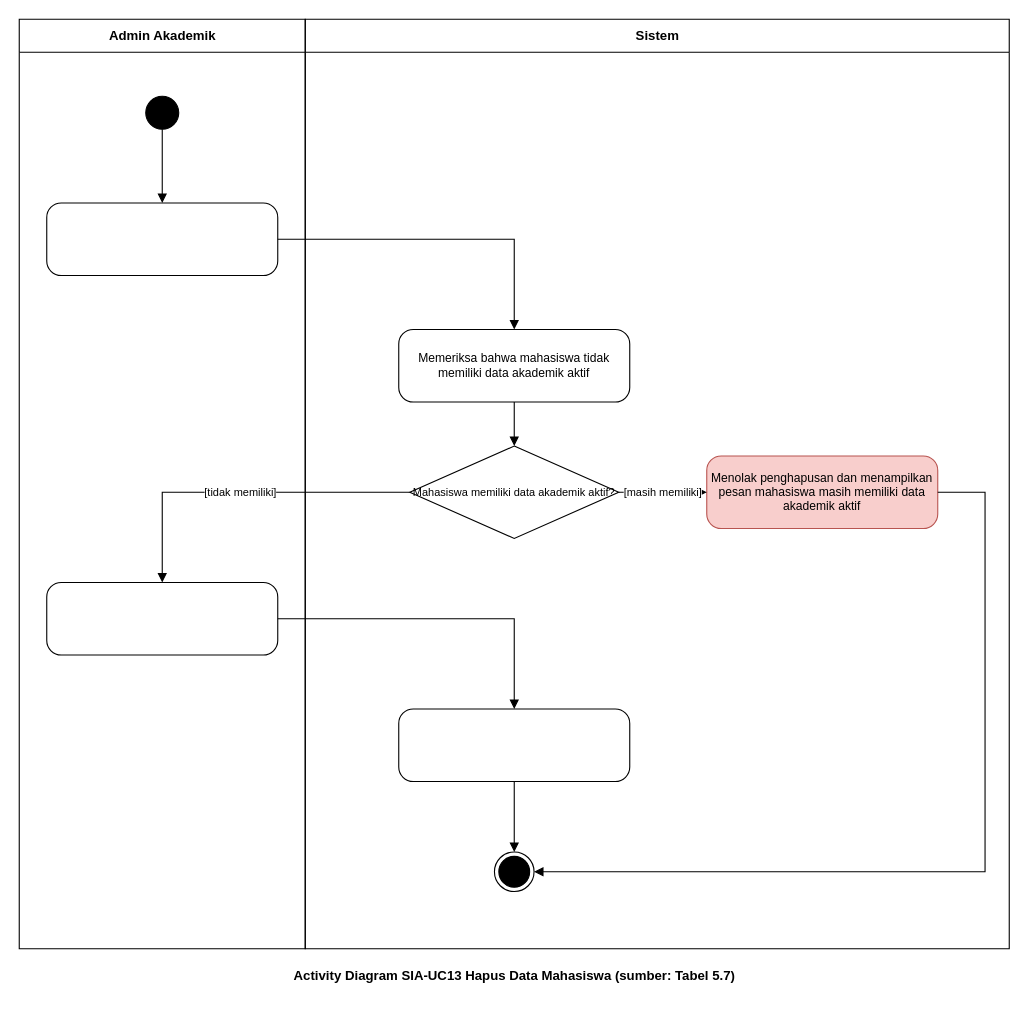
Some shapes in this 1029 by 1012 pixel diagram are drawn without their labels. Each missing label, with the centre of its shape:
Memilih data mahasiswa yang akan dihapus: the point at 162,239
Menghapus data mahasiswa dan menampilkan konfirmasi penghapusan: the point at 514,745
Mengonfirmasi penghapusan: the point at 162,618
